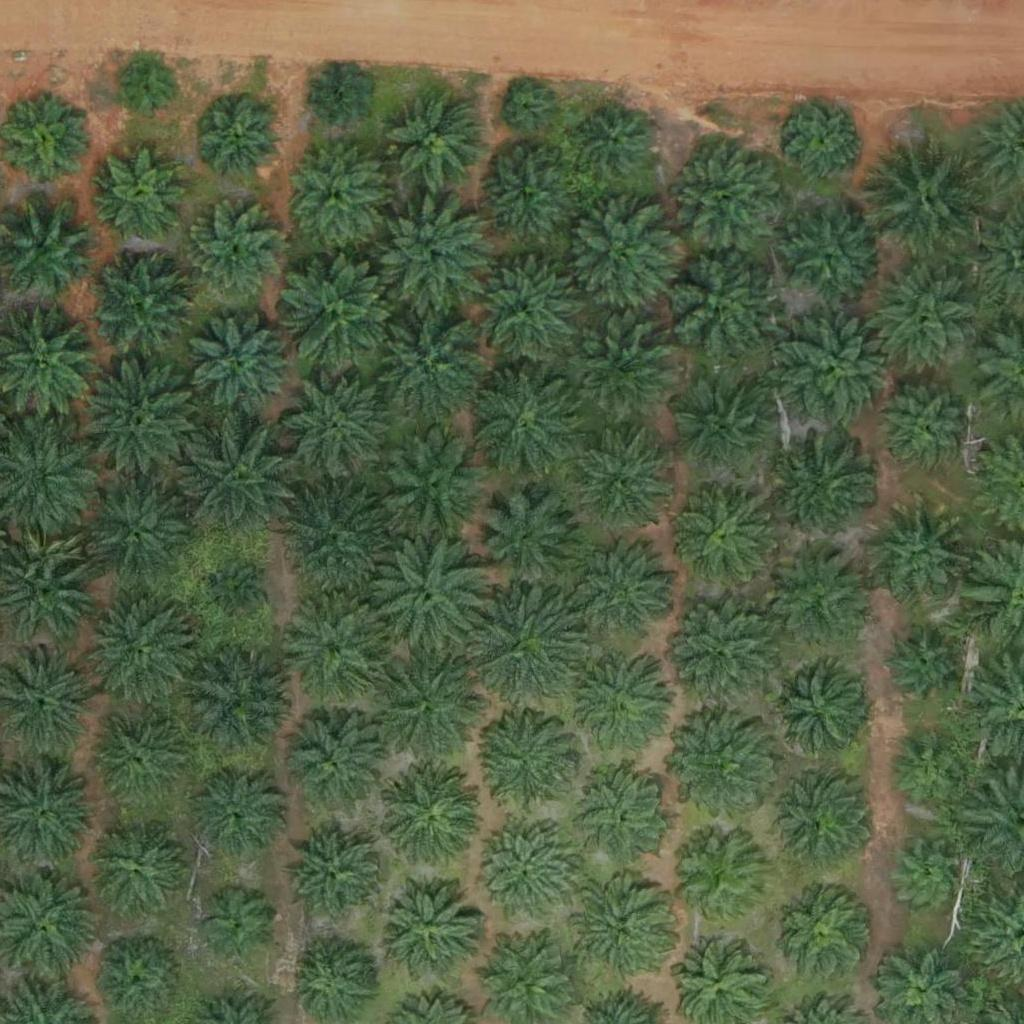Kelapa_Sawit: (72, 359, 197, 485), (177, 418, 302, 544), (278, 249, 403, 375), (274, 478, 399, 604), (361, 298, 486, 424), (371, 529, 496, 655), (466, 360, 591, 486), (461, 585, 586, 711), (666, 133, 791, 259), (654, 244, 779, 370), (659, 591, 784, 717), (774, 308, 899, 434), (865, 134, 990, 260), (861, 257, 986, 383), (367, 643, 492, 769), (462, 252, 587, 377), (86, 249, 199, 363), (185, 644, 298, 758), (78, 476, 191, 589), (83, 593, 196, 706), (375, 198, 488, 311), (376, 430, 489, 543), (471, 486, 584, 599), (570, 540, 683, 653), (662, 715, 775, 828), (558, 648, 671, 761), (283, 593, 395, 707), (186, 310, 298, 423), (277, 367, 389, 480), (564, 201, 676, 314), (565, 313, 677, 426), (82, 707, 194, 820), (182, 203, 282, 304), (286, 144, 386, 245), (386, 92, 486, 193), (475, 146, 575, 247), (674, 380, 774, 481), (675, 481, 775, 582), (782, 436, 882, 537), (770, 541, 870, 642), (873, 504, 973, 605), (766, 658, 866, 759), (768, 770, 868, 871), (776, 882, 876, 983), (671, 827, 771, 928), (573, 768, 673, 869), (571, 879, 671, 980), (474, 712, 574, 813), (88, 821, 188, 922), (780, 205, 880, 305), (476, 821, 576, 921), (379, 770, 479, 870), (379, 880, 479, 980), (279, 714, 379, 814), (286, 827, 386, 927), (187, 769, 287, 869), (97, 148, 185, 236), (196, 97, 284, 185), (577, 436, 665, 524), (3, 102, 90, 190), (882, 387, 969, 475), (787, 102, 862, 178), (198, 884, 273, 960), (892, 837, 967, 912), (891, 733, 966, 808), (578, 105, 653, 180), (884, 630, 959, 705), (207, 564, 270, 627), (308, 67, 371, 130), (118, 60, 180, 123), (503, 84, 553, 134)
